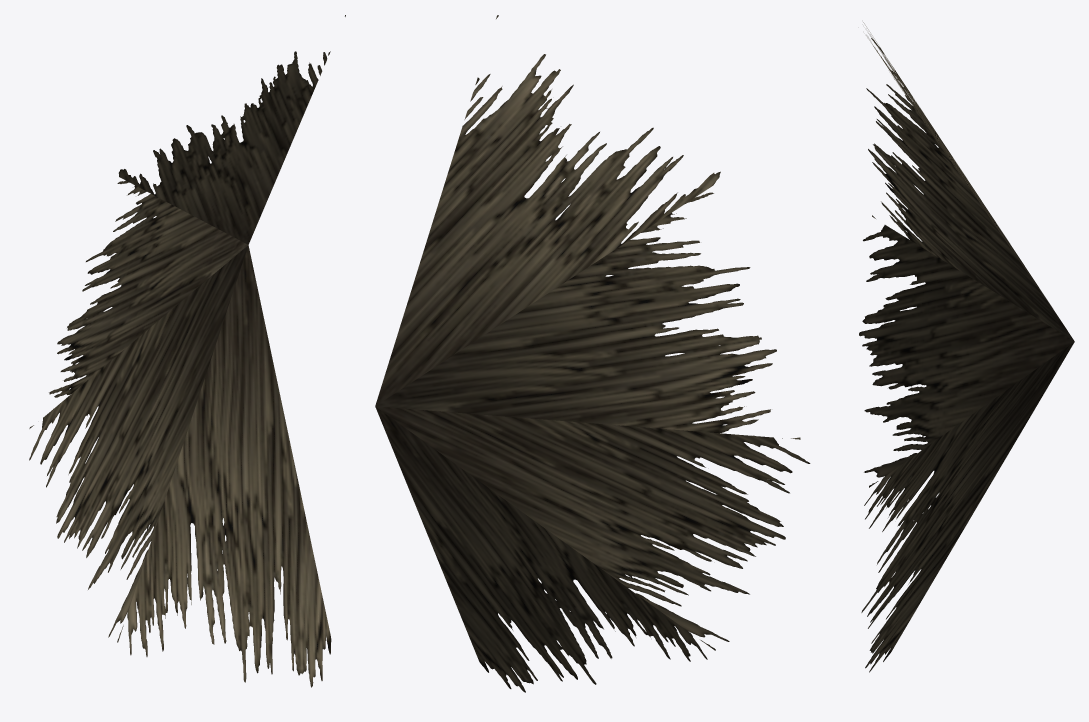
The model's file is MEP_Roof_03_LOD_01.fbx.
The picture shows the model from 3 angles, left to right: view 1: azimuth 30°, elevation 25°; view 2: azimuth 150°, elevation 25°; view 3: azimuth 270°, elevation 25°; orthographic projection.
Parts seen in each view (by area): view 1: MEP_Roof_03_LOD_01; view 2: MEP_Roof_03_LOD_01; view 3: MEP_Roof_03_LOD_01.
Boxes of the visible parts, x1,y1,x2,y2 form: MEP_Roof_03_LOD_01: (29, 15, 345, 687); MEP_Roof_03_LOD_01: (375, 15, 810, 692); MEP_Roof_03_LOD_01: (859, 22, 1074, 672).
Size of the model in its own units: 2.41 by 4.63 by 1.34.
